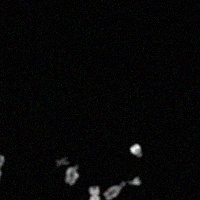chromosome: (104, 175, 142, 200), (65, 166, 80, 186), (130, 144, 143, 160), (88, 186, 101, 200), (56, 157, 70, 167), (0, 153, 4, 186), (194, 189, 200, 200)
